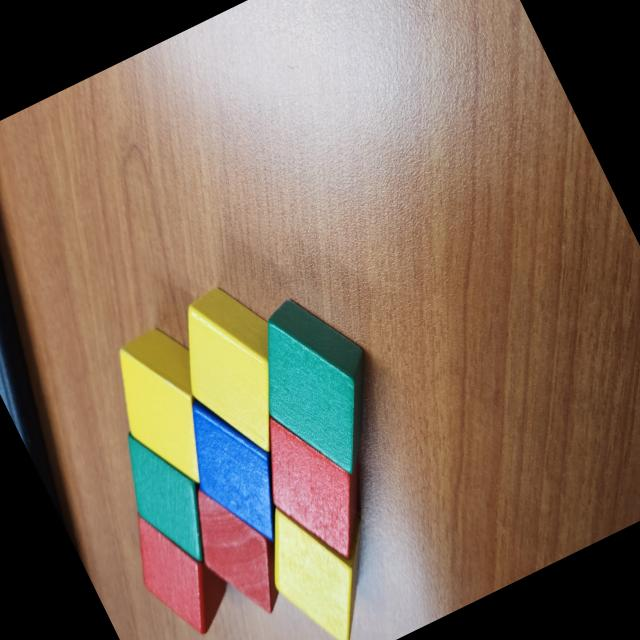blue: (192, 398, 275, 541)
green: (226, 280, 412, 499), (103, 413, 231, 578)
red: (113, 488, 246, 640), (270, 418, 360, 557), (197, 488, 280, 612)
yellow: (191, 286, 269, 452), (120, 328, 200, 485), (274, 510, 359, 640)
